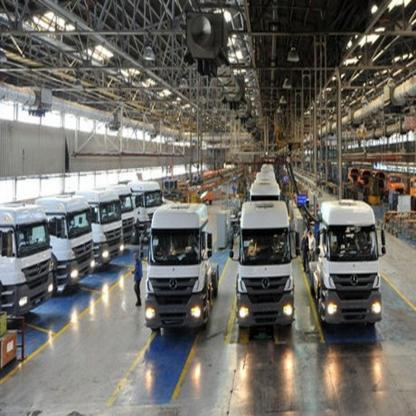Truck: (307, 204, 385, 332), (148, 208, 224, 333), (237, 206, 297, 343), (0, 203, 53, 314), (50, 194, 99, 284), (89, 199, 127, 264), (123, 196, 143, 235)
